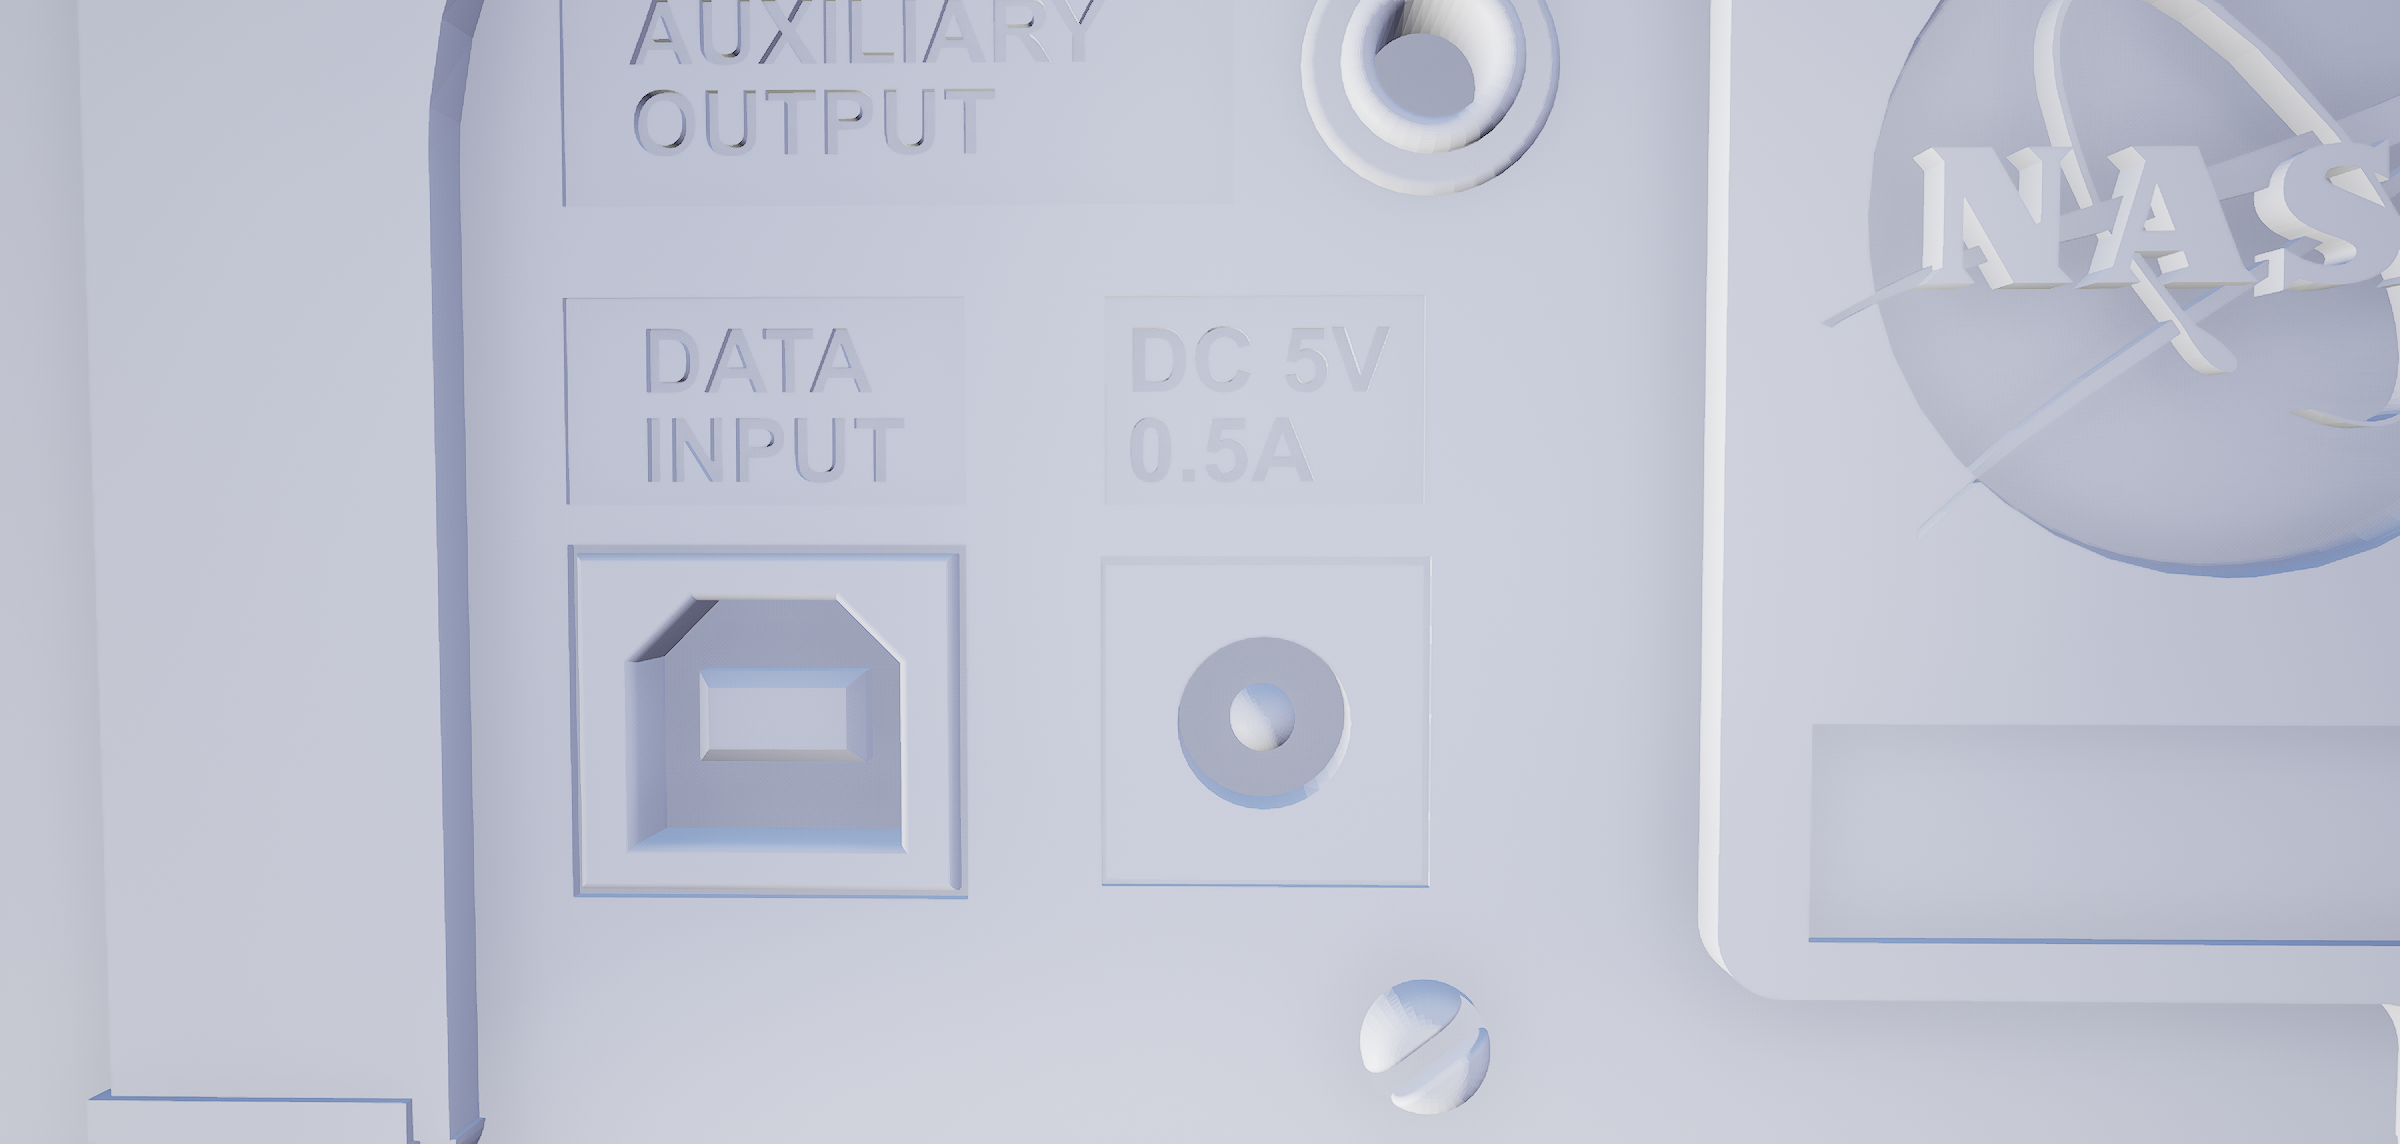aux: (1280, 2, 1572, 221)
dc: (1165, 623, 1368, 827)
usb: (620, 587, 912, 865)
